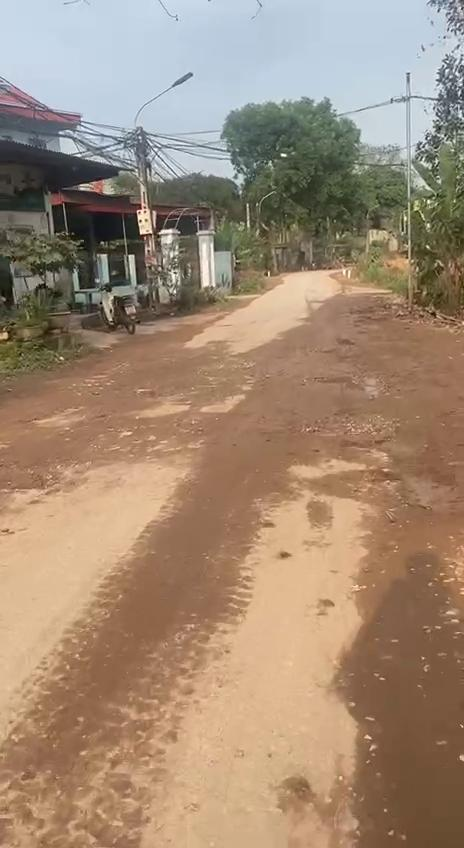pothole: (301, 408, 392, 433)
